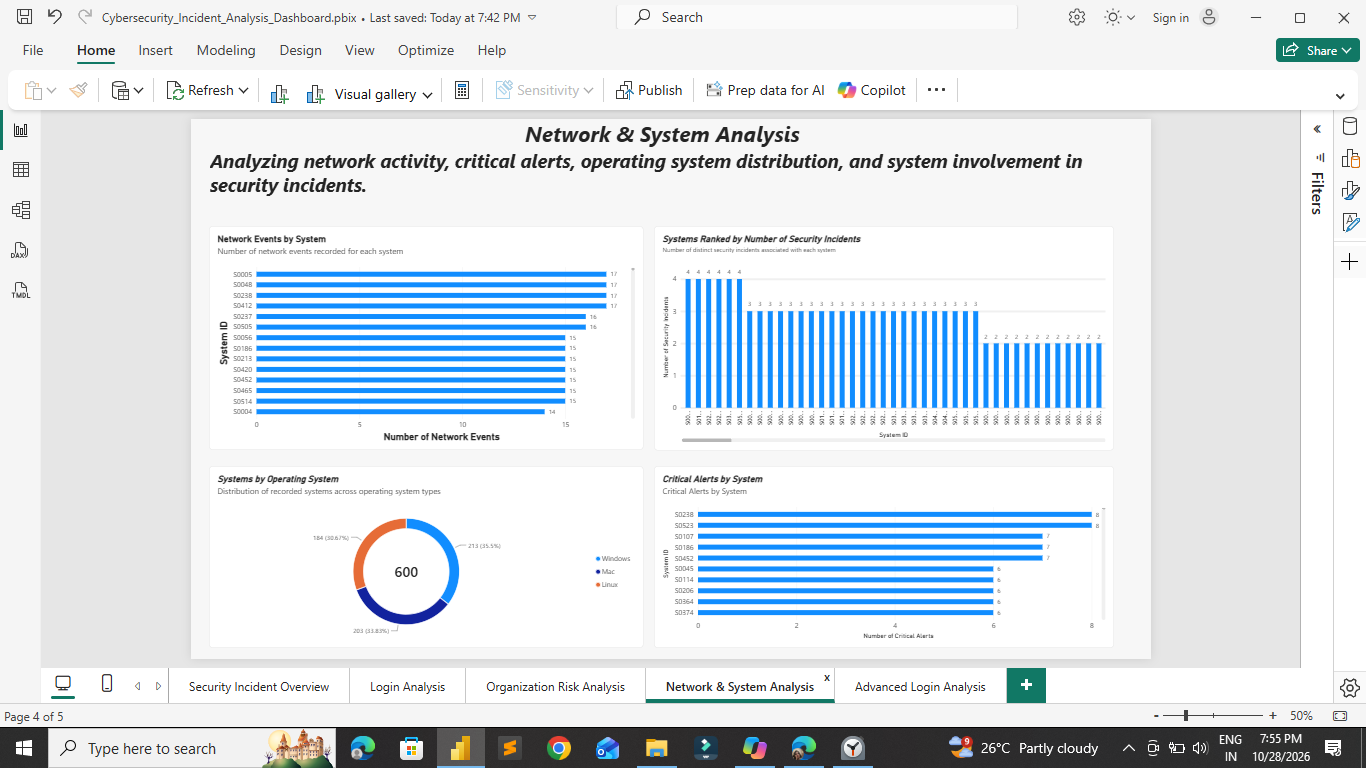

The dashboard page shown, as its layout file describes it:
{"tool":"powerbi","page":{"name":"Network & System Analysis","canvas":[1920,1080],"ordinal":3},"visuals":[{"type":"barChart","title":"Network Events by System","fields":{"Category":["network_events.system_id"],"Y":["CountNonNull(network_events.event_id)"]},"box":[36.4,214,868.9,448.5],"z":0},{"type":"clusteredBarChart","title":"Critical Alerts by System","fields":{"Category":["network_events.system_id"],"Y":["CountNonNull(network_events.severity)"]},"box":[926.8,693.5,920.4,363.9],"z":1},{"type":"donutChart","title":"Systems by Operating System","fields":{"Category":["systems.os_type"],"Y":["CountNonNull(systems.system_id)"]},"box":[36.4,693.5,869,363.9],"z":2},{"type":"columnChart","title":"Systems Ranked by Number of Security Incidents","fields":{"Category":["incident_systems.system_id"],"Y":["Count(incident_systems.incident_id)"]},"box":[926.8,214,920.4,449.5],"z":3},{"type":"textbox","box":[37.5,0,1810.1,185],"z":4}]}

Visuals, with their boxes on the page's 1920x1080 design canvas (x1, y1, x2, y2). These are canvas units, not pixel positions in the 1366x768 screenshot, which may show the page scaled, cropped or inside an application window:
"Network Events by System" barChart: BBox(36, 214, 905, 662)
"Critical Alerts by System" clusteredBarChart: BBox(927, 694, 1847, 1057)
"Systems by Operating System" donutChart: BBox(36, 694, 905, 1057)
"Systems Ranked by Number of Security Incidents" columnChart: BBox(927, 214, 1847, 664)
textbox: BBox(38, 0, 1848, 185)
